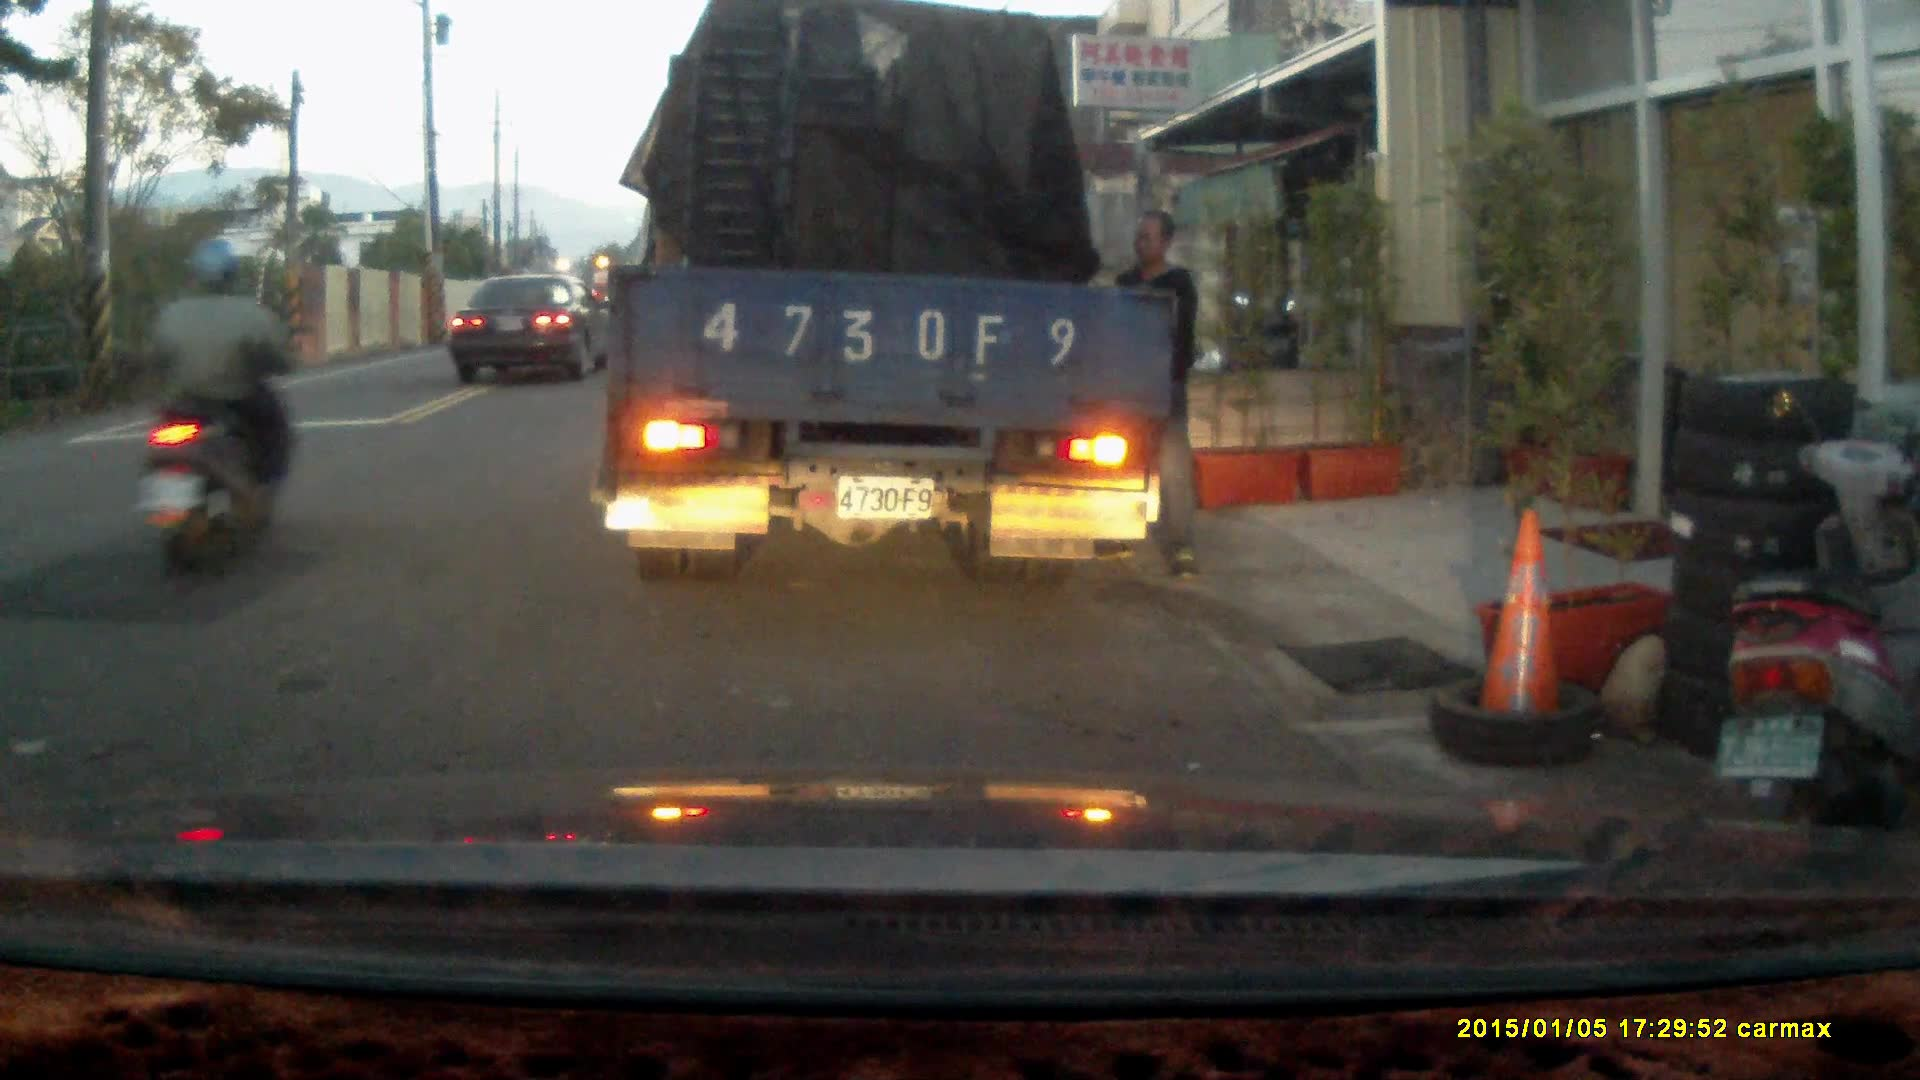pedestrian: (1077, 206, 1206, 581)
rider: (138, 237, 297, 589)
vehicle: (604, 23, 1178, 572), (453, 271, 610, 386)
